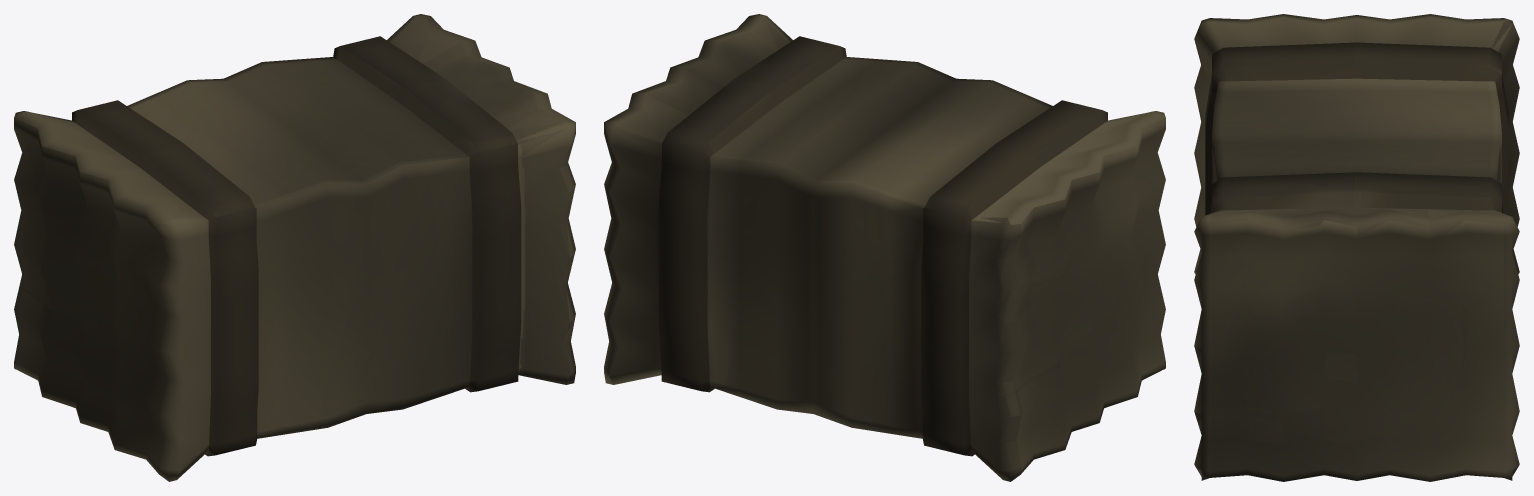
Rendered from heinapaali.fbx.
The picture shows the model from 3 angles, left to right: view 1: azimuth 30°, elevation 25°; view 2: azimuth 150°, elevation 25°; view 3: azimuth 270°, elevation 25°; orthographic projection.
Visible parts, largest first — view 1: heinapaali; view 2: heinapaali; view 3: heinapaali.
Part boxes in pixels (x1,y1,x2,y2): heinapaali: [14, 14, 575, 481]; heinapaali: [604, 14, 1165, 481]; heinapaali: [1194, 14, 1519, 481].
Bounding box in the file's own units: 1.86 × 1.07 × 1.19.
Materials: 1 (1 with a texture image).
